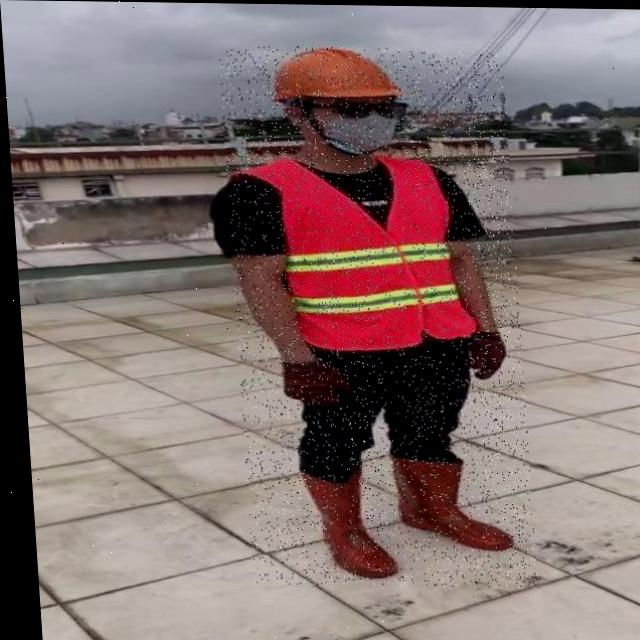Gloves: (275, 356, 346, 407), (462, 328, 503, 379)
Helmet: (268, 44, 402, 104)
Safety-Boot: (383, 451, 506, 550), (293, 463, 390, 576)
Safety-Vest: (225, 151, 478, 352)
